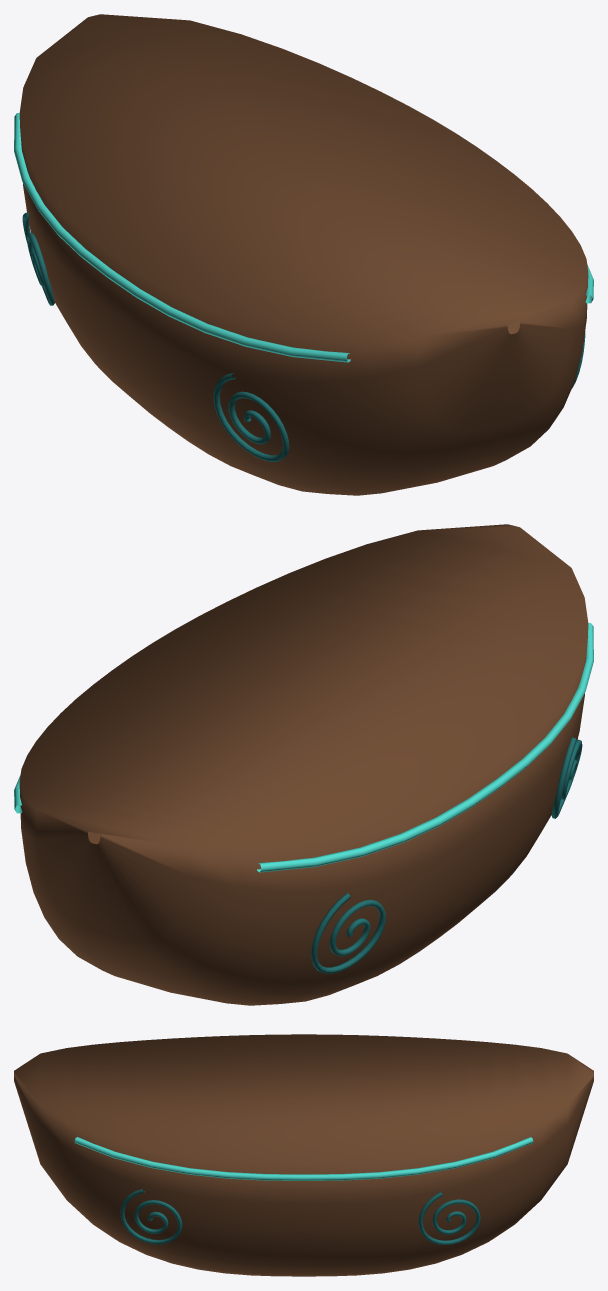
Rendered from k1_board.obj.
3 renders of one model, top to bottom at view 1: azimuth 30°, elevation 25°; view 2: azimuth 150°, elevation 25°; view 3: azimuth 270°, elevation 25°, orthographic. The views are drawn at different scales.
Visible parts, largest first — view 1: k1_board; view 2: k1_board; view 3: k1_board.
Part boxes in pixels (x1,y1,x2,y2): k1_board: [14, 14, 593, 495]; k1_board: [14, 524, 593, 1005]; k1_board: [14, 1034, 593, 1276].
Size of the model in its own units: 0.7635 by 0.47 by 1.4.
